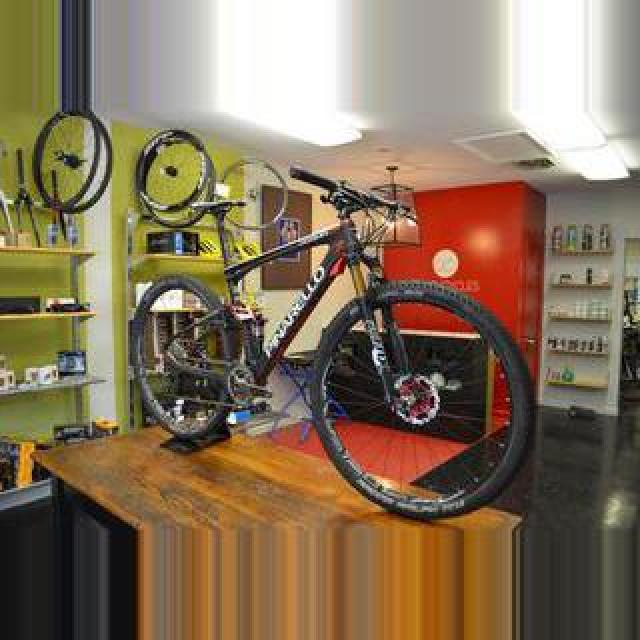Person: (116, 155, 534, 521)
